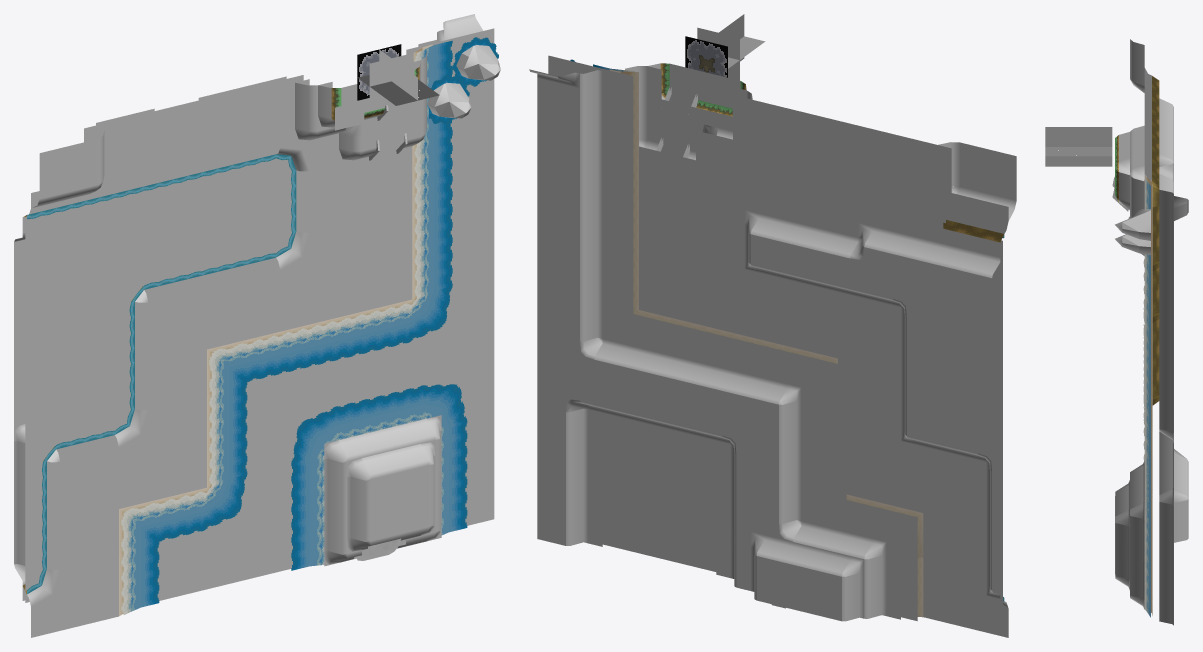
Rendered from Asteria_36_17.obj.
The picture shows the model from 3 angles, left to right: view 1: azimuth 30°, elevation 25°; view 2: azimuth 150°, elevation 25°; view 3: azimuth 270°, elevation 25°; orthographic projection. The views are drawn at different scales.
Visible parts, largest first — view 1: map; view 2: map; view 3: map.
Part boxes in pixels (x1,y1,x2,y2): map: [14, 14, 500, 637]; map: [529, 14, 1016, 637]; map: [1045, 39, 1188, 625].
Bounding box in the file's own units: 32.11 × 34.24 × 9.75.
